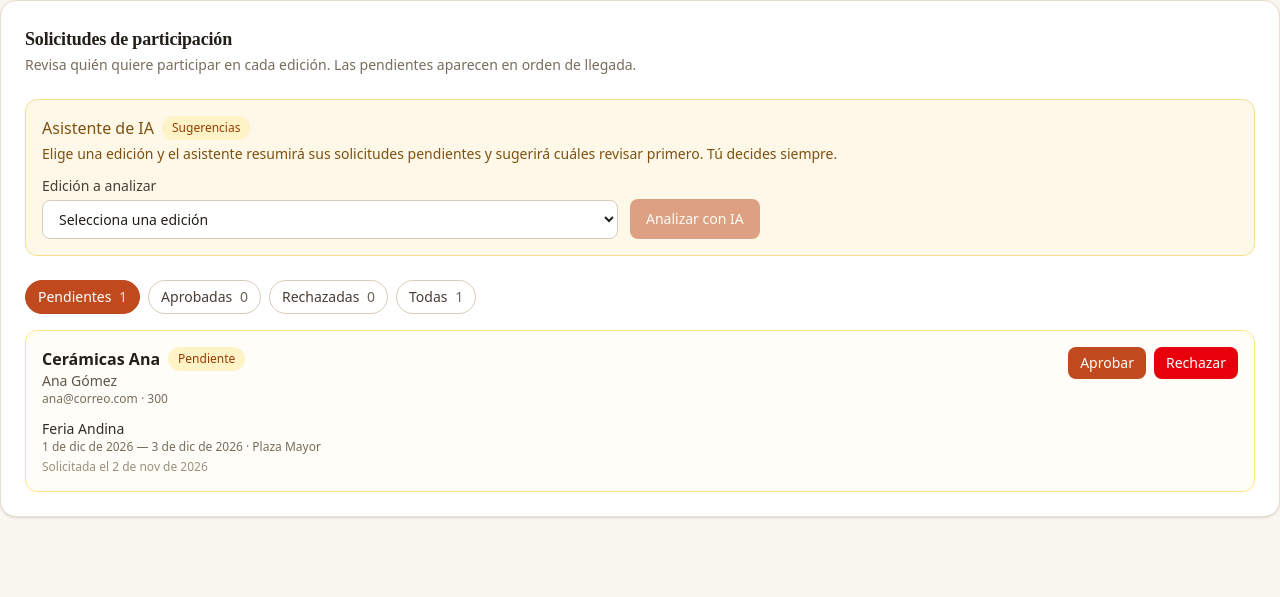
Test case: GestionSolicitudes: acciones › rechazar una pendiente no pide confirmación
The width and height of the screenshot is (1280, 597).
Click the button "Rechazar": (1196, 363) [1154, 347, 1238, 379]
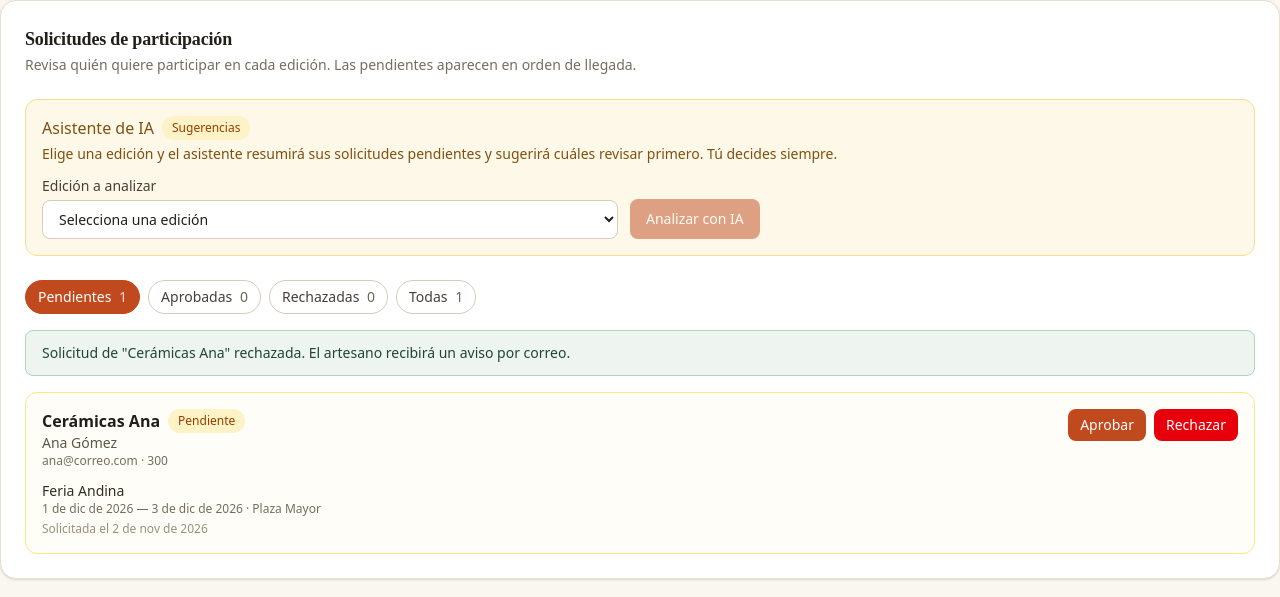
Expected: the text "Solicitud de \"Cerámicas Ana\" rechazada" is shown, [42, 343, 570, 362]
